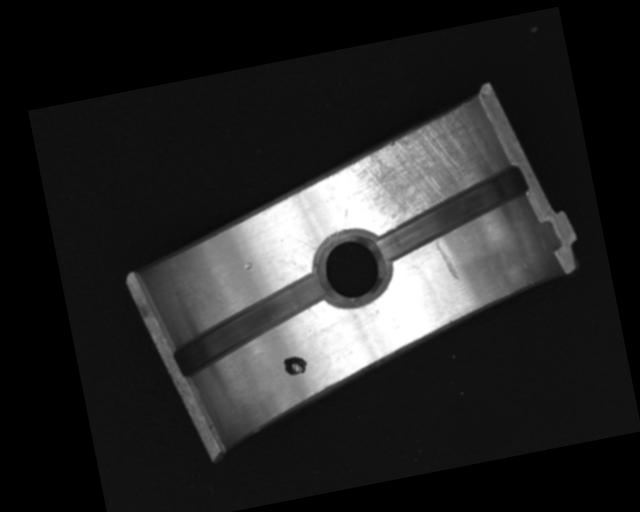blot: (281, 352, 309, 378)
bruise: (242, 259, 253, 272)
gap: (163, 270, 337, 379), (366, 164, 535, 263)
hole: (308, 224, 395, 313)
nick: (433, 234, 460, 284), (288, 228, 318, 256)
scratch: (330, 96, 505, 235)
